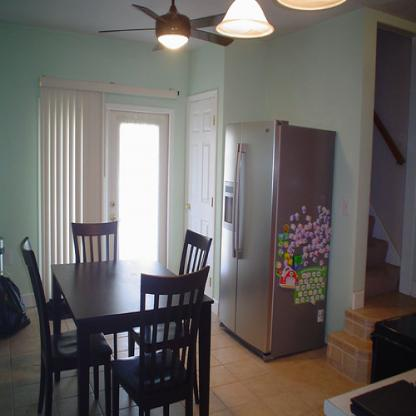backpack: (1, 272, 32, 336)
